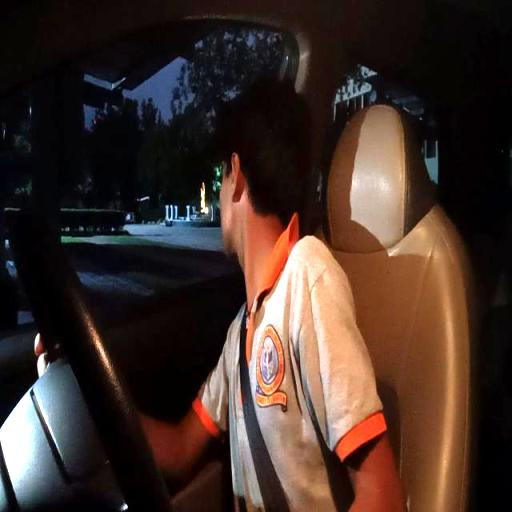Reaching_behind: (190, 99, 368, 512)
